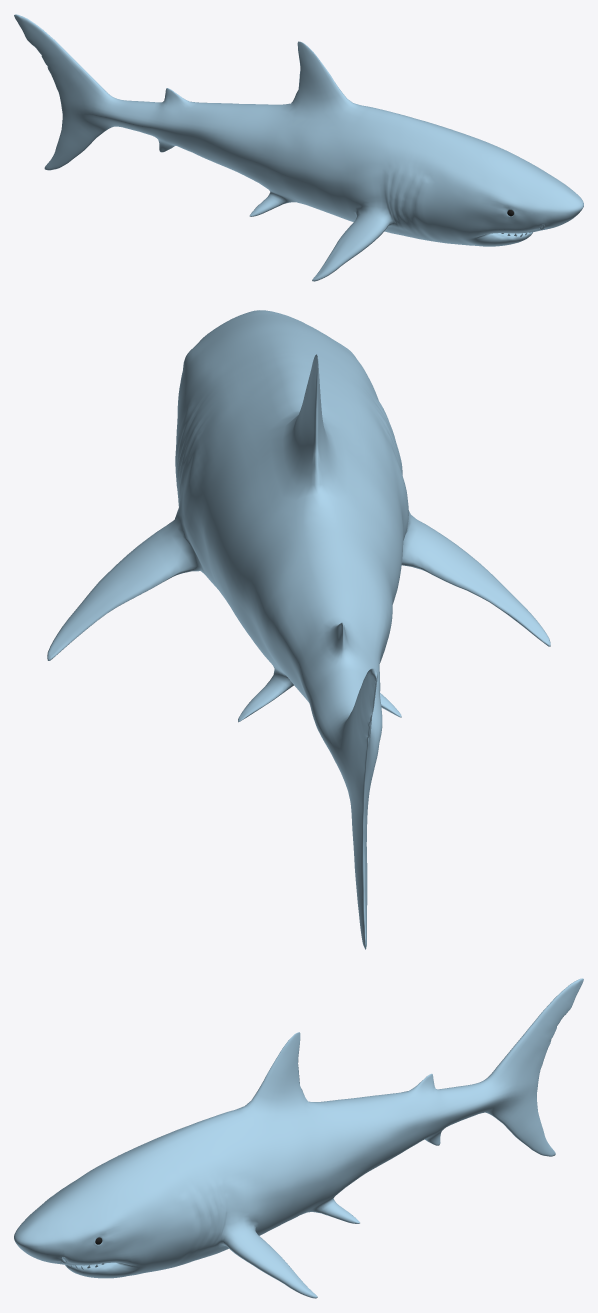
Rendered from Shark.fbx.
The picture shows the model from 3 angles, top to bottom: view 1: azimuth 30°, elevation 25°; view 2: azimuth 150°, elevation 25°; view 3: azimuth 270°, elevation 25°; orthographic projection. The views are drawn at different scales.
Visible parts, largest first — view 1: shark; view 2: shark; view 3: shark.
Boxes of the visible parts, x1,y1,x2,y2 form: shark: (14,14,583,281); shark: (47,310,550,949); shark: (14,978,583,1298).
Size of the model in its own units: 7667 by 4097 by 10554.
